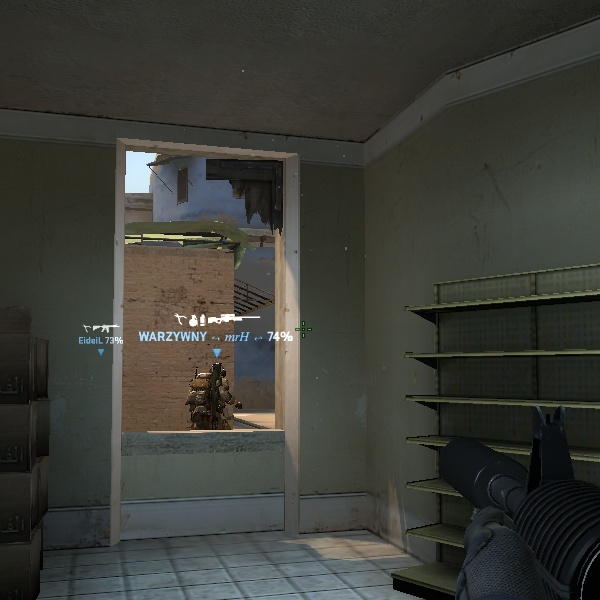t_body: (178, 354, 244, 426)
